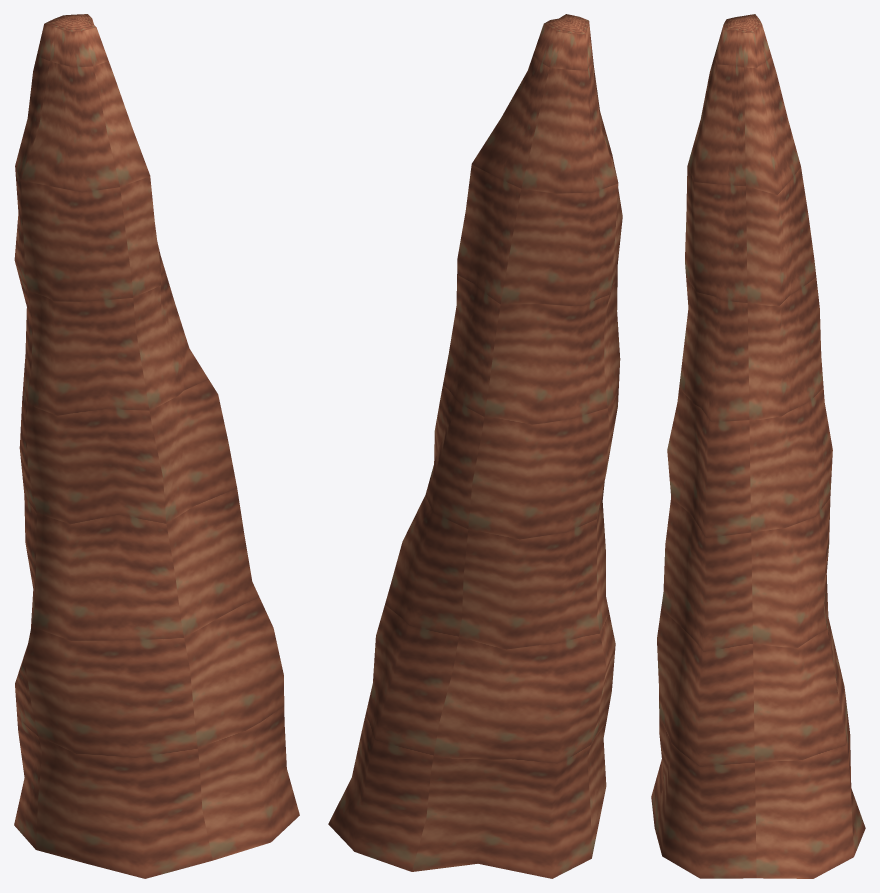
File: Rock_Spire_3_LOD1.gltf
The picture shows the model from 3 angles, left to right: view 1: azimuth 30°, elevation 25°; view 2: azimuth 150°, elevation 25°; view 3: azimuth 270°, elevation 25°; orthographic projection. The views are drawn at different scales.
Visible parts, largest first — view 1: Rock_Spire_3_LOD1; view 2: Rock_Spire_3_LOD1; view 3: Rock_Spire_3_LOD1.
Boxes of the visible parts, x1,y1,x2,y2 form: Rock_Spire_3_LOD1: (14,14,299,878); Rock_Spire_3_LOD1: (328,14,622,878); Rock_Spire_3_LOD1: (651,14,865,878).
Size of the model in its own units: 14.17 by 44.06 by 11.17.
Materials: 1 (1 with a texture image).
